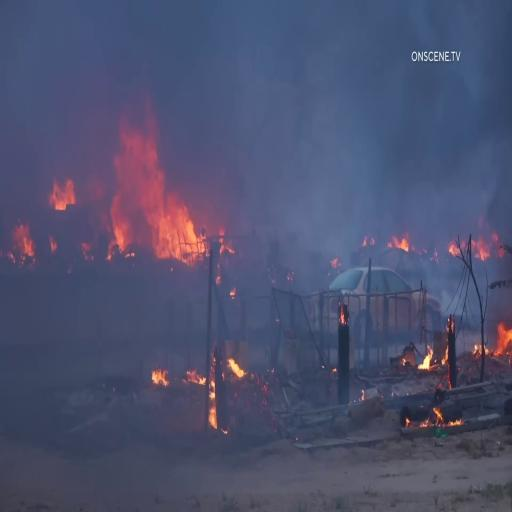fire: (115, 118, 202, 260)
